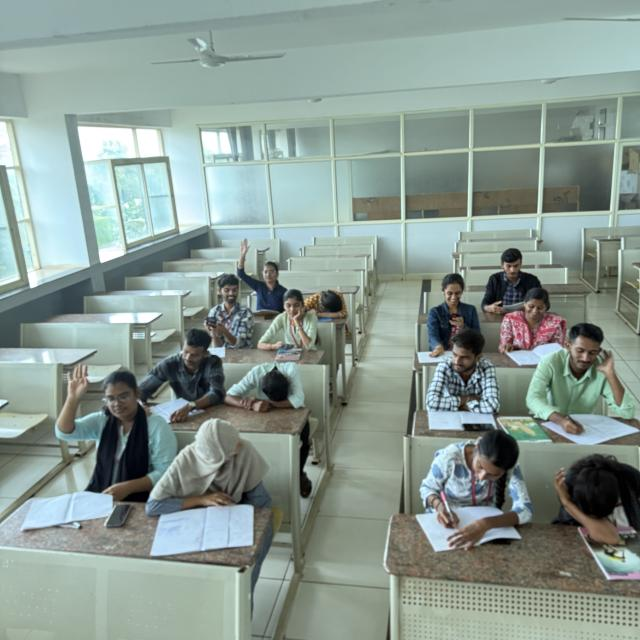Hand Rising: (48, 354, 175, 495), (235, 236, 296, 316)
Reading: (499, 288, 573, 366), (478, 244, 544, 317)
Sleeping: (546, 445, 636, 548), (222, 353, 312, 417), (301, 276, 355, 328)
Using Phone: (192, 270, 255, 352), (423, 273, 486, 353)
Writing: (525, 316, 635, 434), (418, 427, 536, 537), (136, 328, 227, 424)
